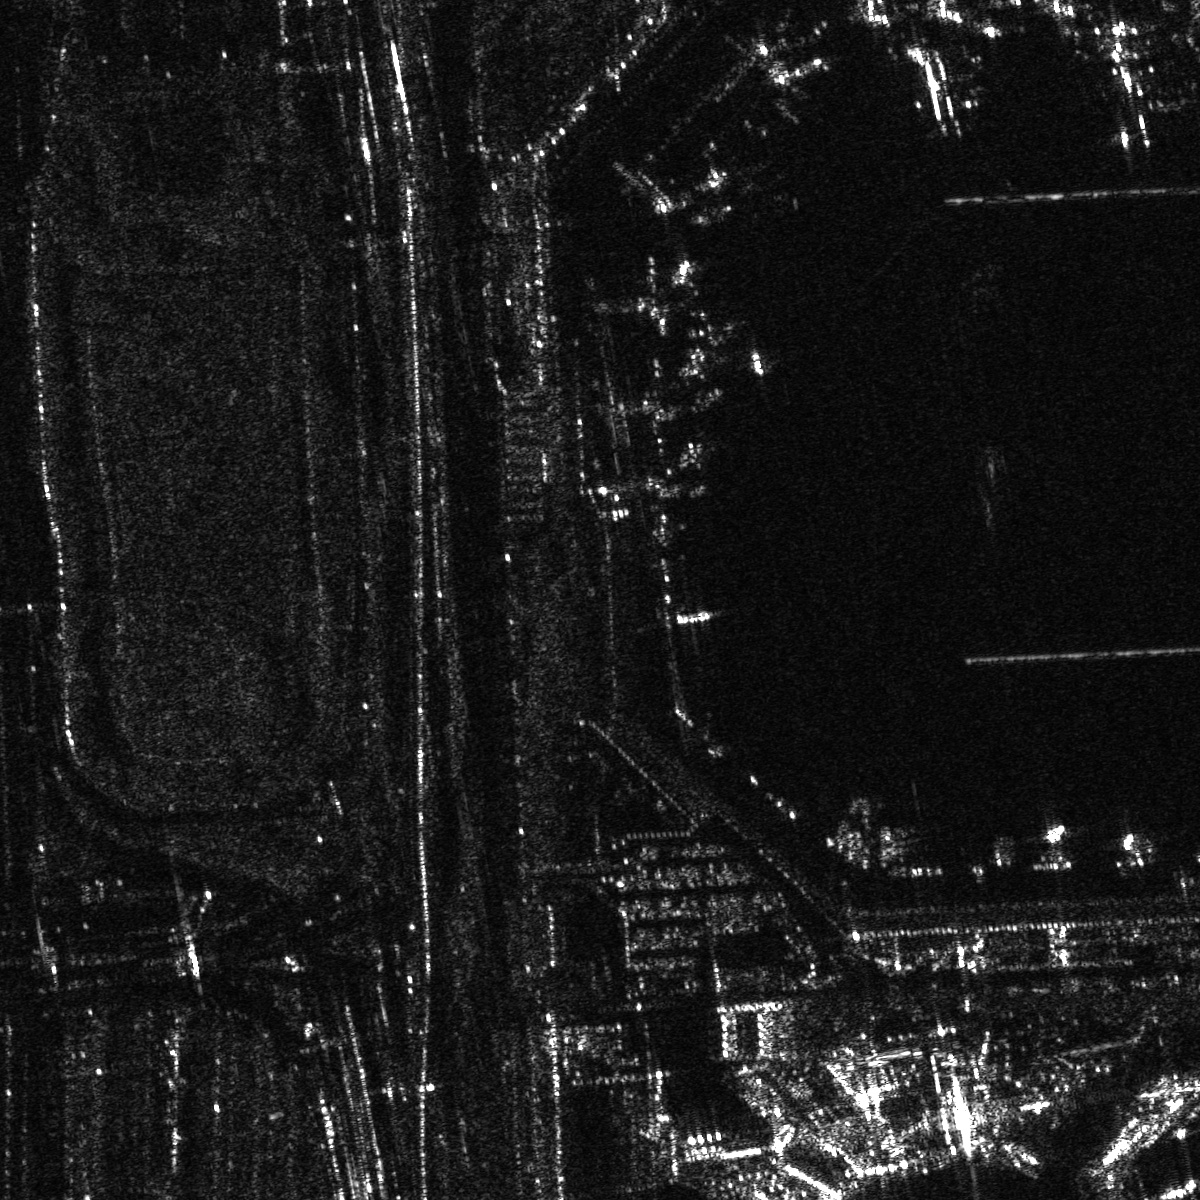A220: (889, 38, 985, 141)
A320/321: (629, 166, 742, 260)
Boeing737: (743, 38, 834, 110)
Boeing787: (1058, 15, 1166, 148)
